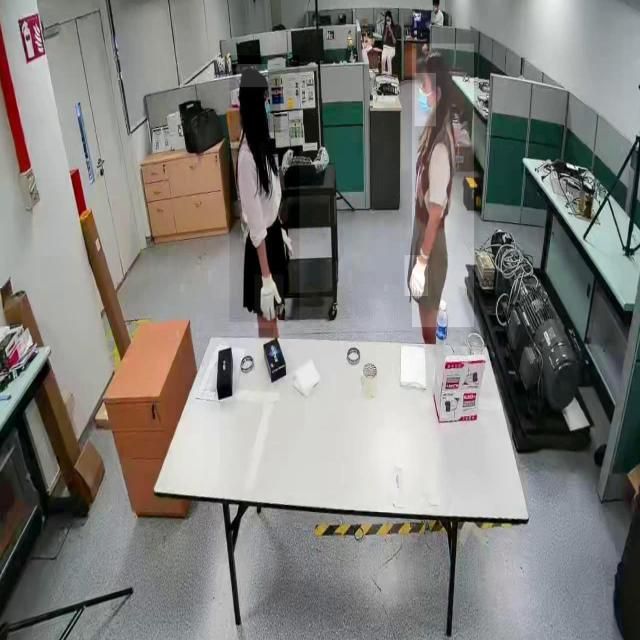face_mask: (257, 76, 281, 132), (414, 73, 436, 126)
hand_glove: (254, 275, 284, 329), (404, 255, 428, 297)
head_nohelmet: (418, 48, 450, 72), (236, 64, 268, 88), (384, 9, 392, 15)
person: (230, 55, 300, 323), (412, 44, 474, 328), (381, 12, 398, 78)
